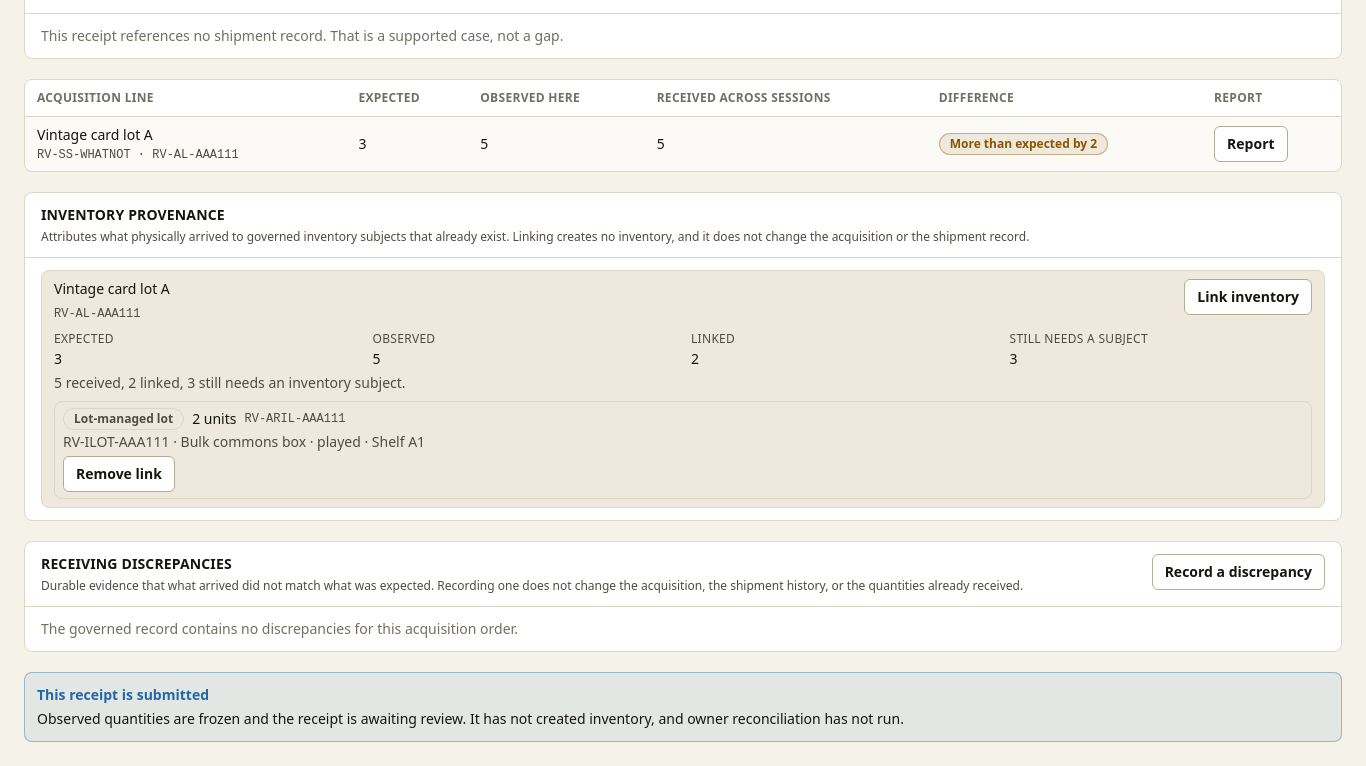
Test: wrong-link recovery › requires a reason before an unlink can be confirmed
This screenshot has width=1366, height=766.
(page scrolled)
Step 1. Click the button "Remove link" → click(119, 474), box [63,456,175,492]
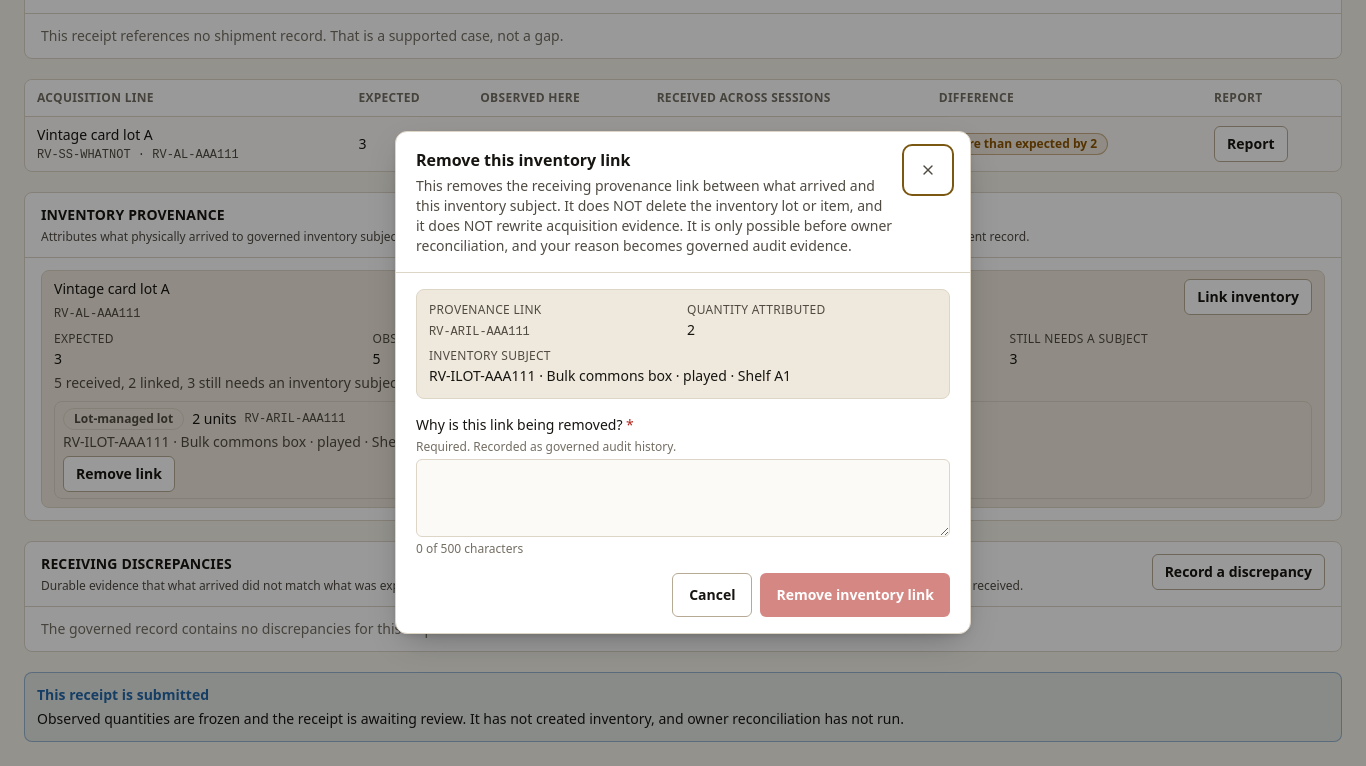
Expected: the button "Remove inventory link" is disabled, [760,572,950,616]
